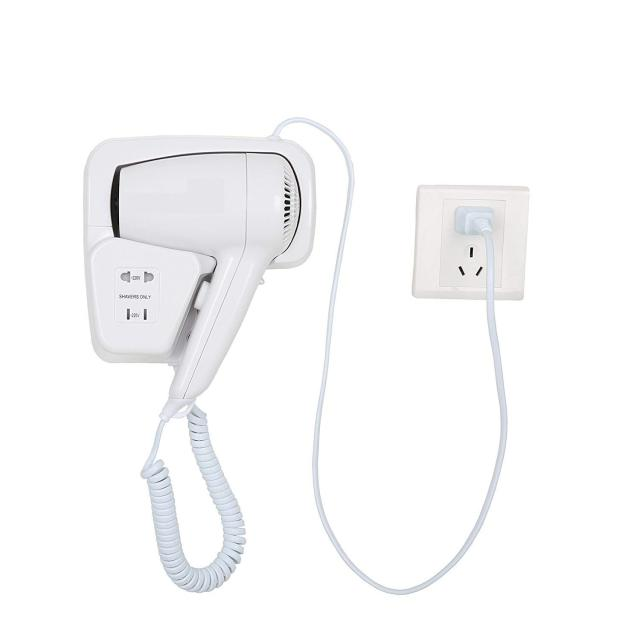dryer: (60, 87, 571, 609), (71, 118, 332, 598), (81, 131, 312, 425)
